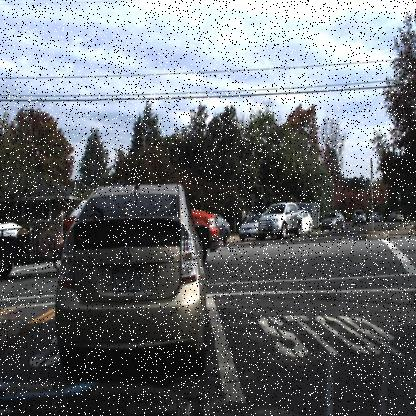car: (65, 177, 209, 365), (320, 209, 345, 233)
